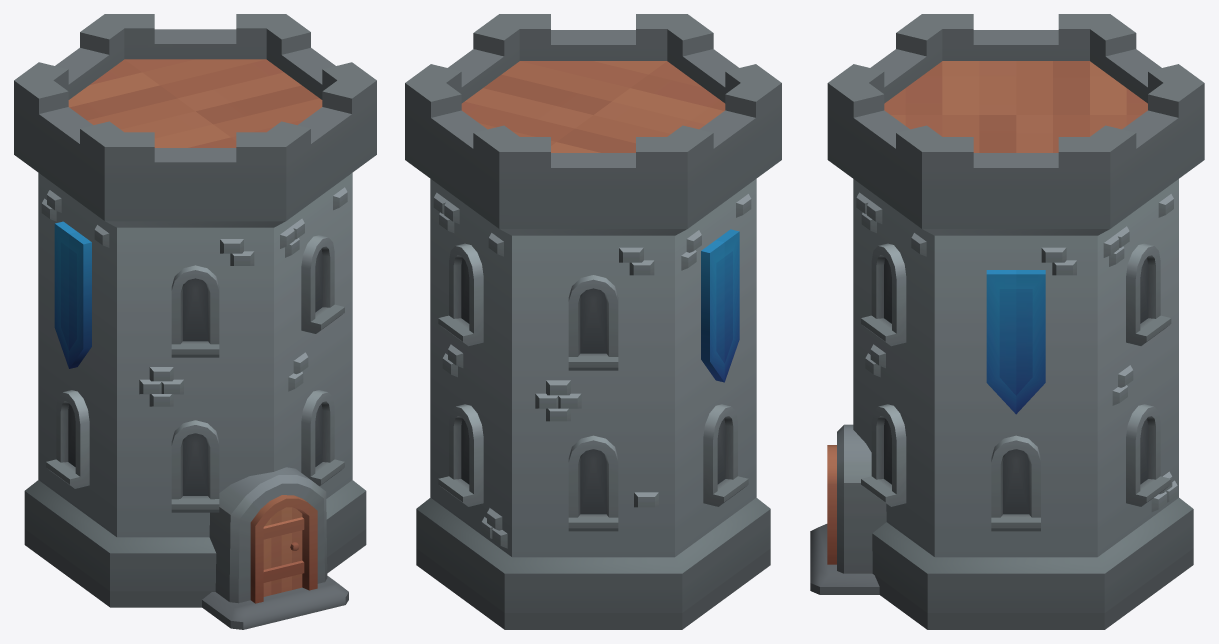
File: building_tower_base_blue.glb
3 renders of one model, left to right at view 1: azimuth 30°, elevation 25°; view 2: azimuth 150°, elevation 25°; view 3: azimuth 270°, elevation 25°, orthographic. The views are drawn at different scales.
Visible parts, largest first — view 1: building_tower_base_blue; view 2: building_tower_base_blue; view 3: building_tower_base_blue.
Part boxes in pixels (left/top/right/bottom): building_tower_base_blue: left=14, top=14, right=376, bottom=629; building_tower_base_blue: left=405, top=14, right=781, bottom=629; building_tower_base_blue: left=810, top=14, right=1204, bottom=629.
Bounding box in the file's own units: 0.9297 × 1.5 × 1.11.
Materials: 1 (1 with a texture image).
